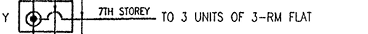Single Phase Tap-Off Unit: (15, 0, 78, 34)
